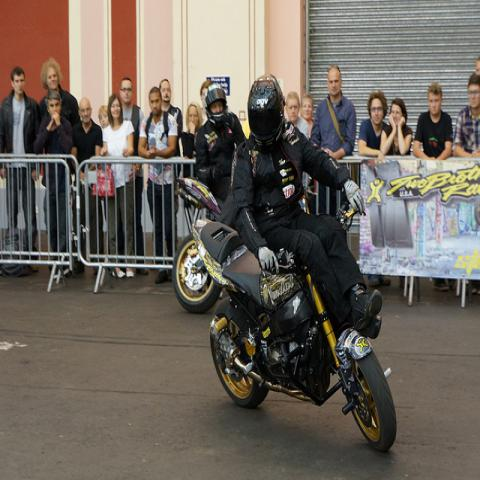motorcycle: (189, 216, 398, 451), (170, 169, 226, 312)
